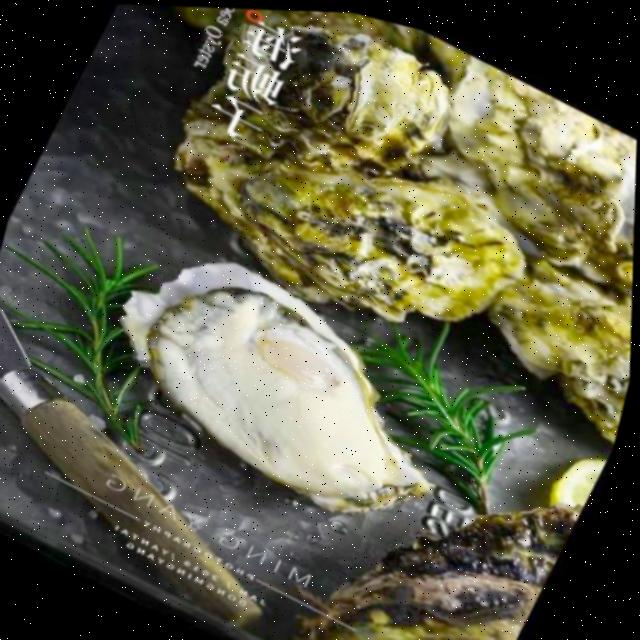Oyster-Indeterminate: (158, 95, 536, 327), (412, 28, 637, 292), (176, 8, 460, 179), (481, 249, 632, 454), (330, 489, 589, 591), (149, 6, 440, 85), (278, 567, 542, 640)
Oyster-Open: (104, 250, 444, 533)
